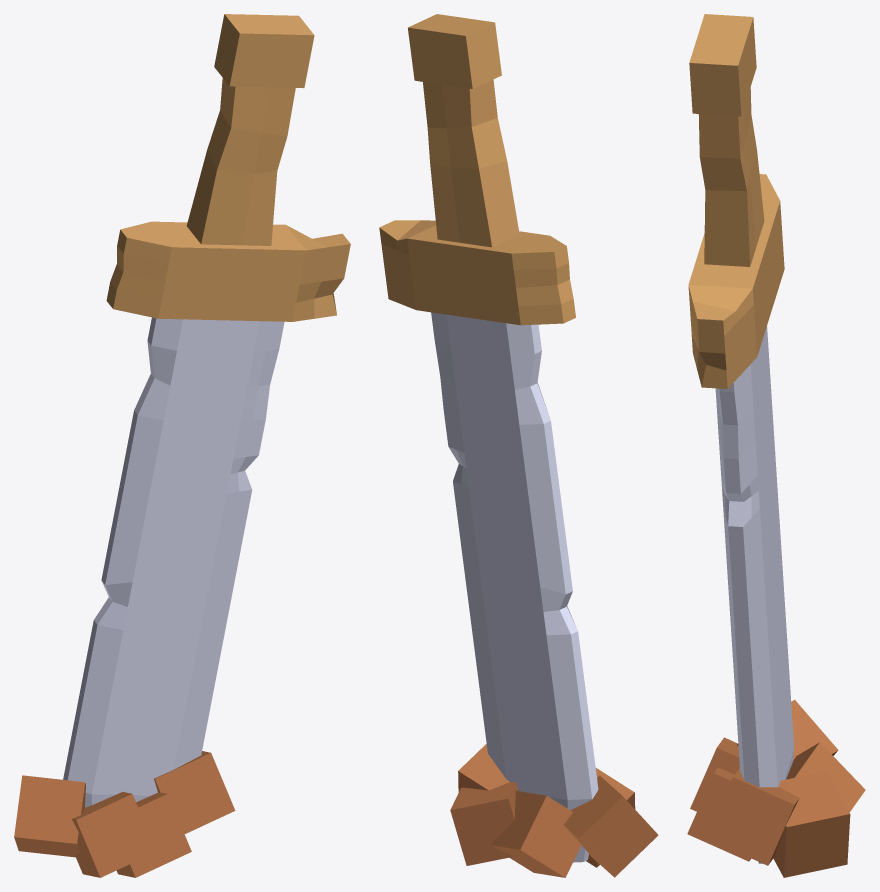
Rendered from pedang.fbx.
3 views of the same model, side by side, from view 1: azimuth 30°, elevation 25°; view 2: azimuth 150°, elevation 25°; view 3: azimuth 270°, elevation 25° (orthographic). The views are drawn at different scales.
Parts seen in each view (by area): view 1: Cube.007, Cube.010, Cube.011, Cube.013, Cube.012; view 2: Cube.007, Cube.009, Cube.010, Cube.008, Cube.013; view 3: Cube.007, Cube.008, Cube.013, Cube.009, Cube.012, Cube.010, Cube.011.
Part boxes in pixels (x1,y1,x2,y2): Cube.007: [63, 14, 350, 807]; Cube.010: [14, 775, 85, 857]; Cube.011: [72, 791, 156, 877]; Cube.013: [154, 751, 235, 833]; Cube.012: [116, 792, 191, 877]; Cube.007: [379, 14, 598, 862]; Cube.009: [490, 790, 581, 877]; Cube.010: [564, 775, 658, 877]; Cube.008: [450, 782, 518, 865]; Cube.013: [458, 744, 518, 791]; Cube.007: [688, 14, 794, 863]; Cube.008: [773, 771, 850, 877]; Cube.013: [706, 768, 799, 865]; Cube.009: [786, 742, 865, 812]; Cube.012: [687, 767, 750, 861]; Cube.010: [737, 699, 838, 759]; Cube.011: [690, 737, 739, 811].
Size of the model in its own units: 519 by 1339 by 244.
Materials: 1 (1 with a texture image).
